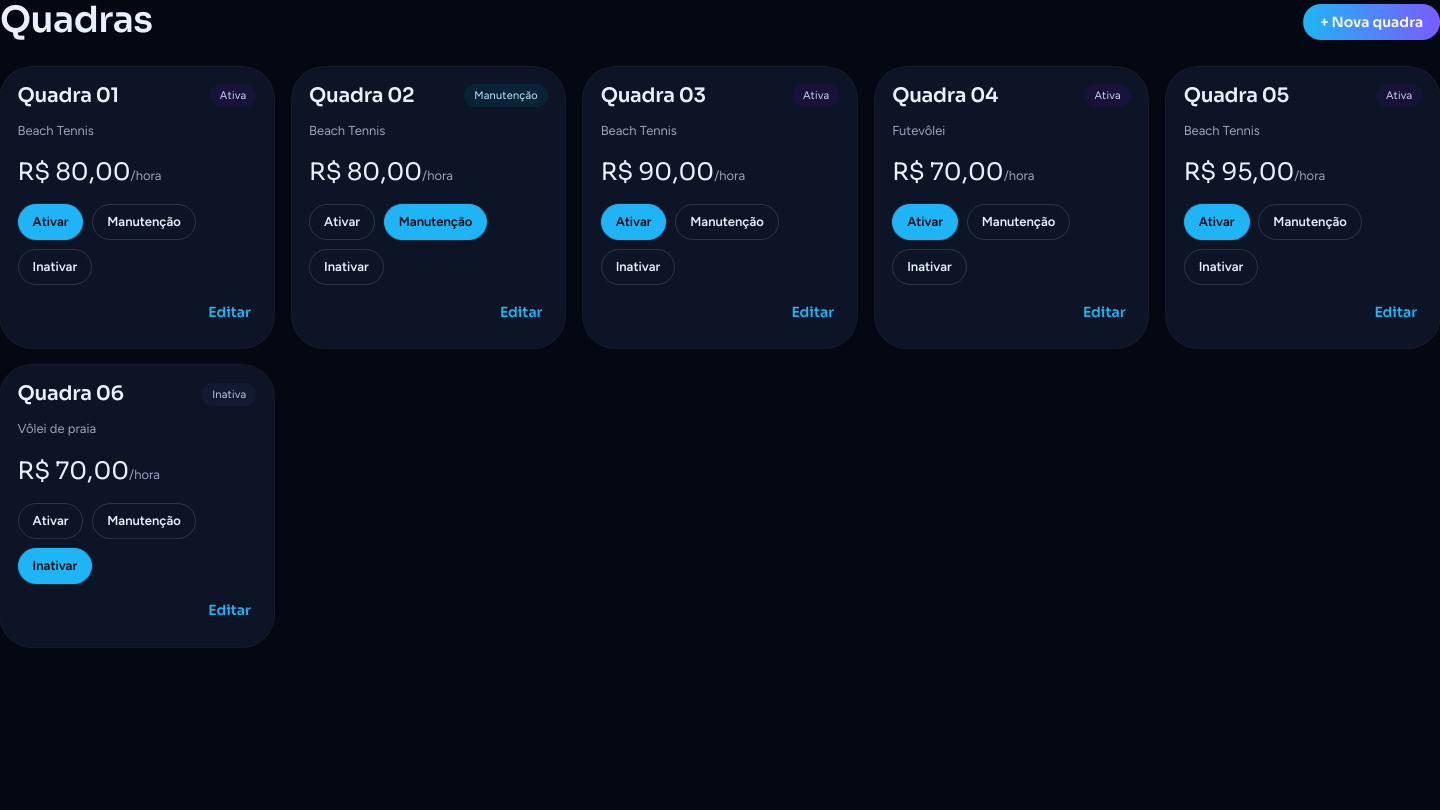
it: QuadrasPage › edita uma quadra e exibe erros da API sem fechar o formulário (RF06)
The width and height of the screenshot is (1440, 810).
Click the button with aria-label "Editar Quadra 01" at (230, 312), box [203, 294, 256, 330]
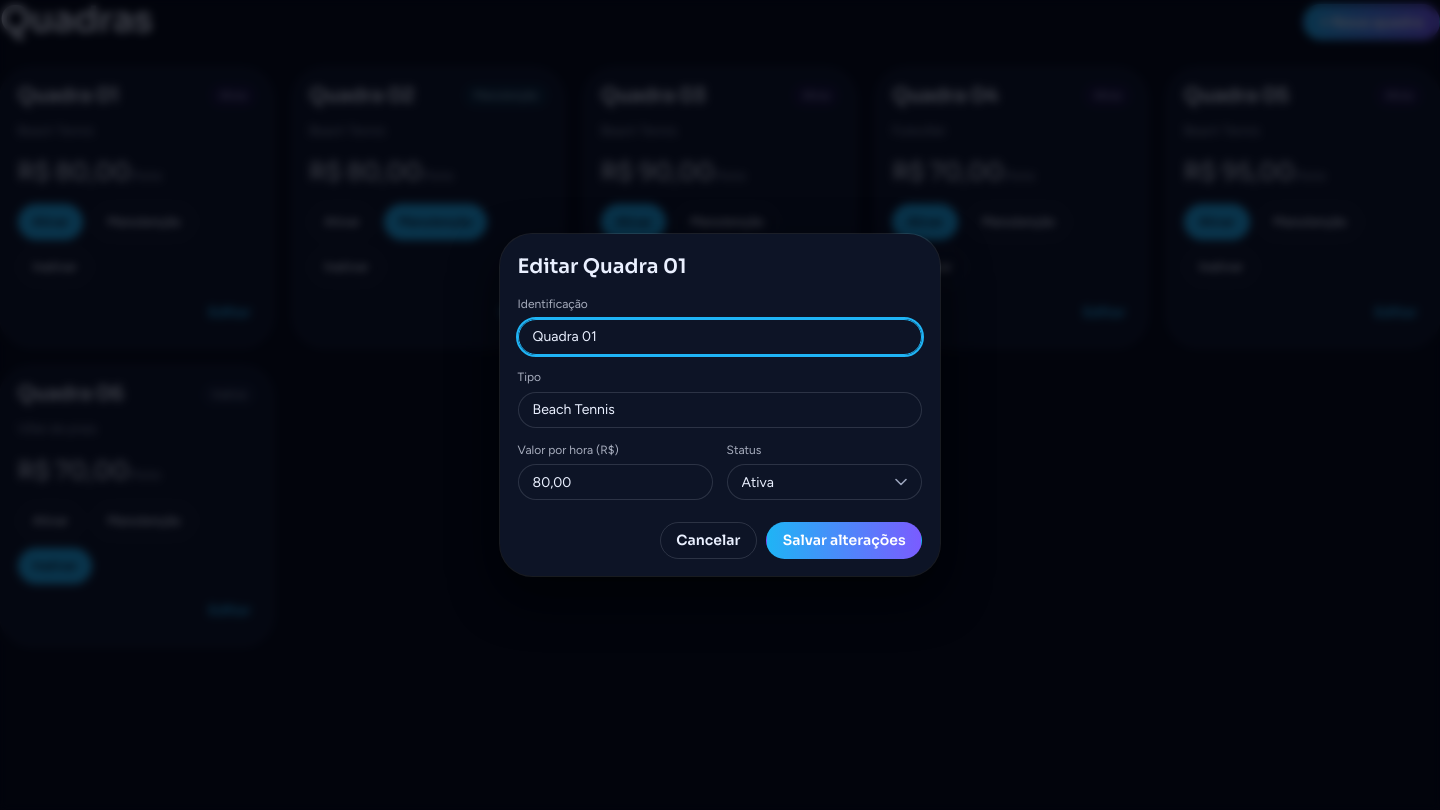
Result: the field labelled "Valor por hora (R$)" holds "80,00" at [518, 464, 713, 500]
Click the button "Salvar alterações" at (844, 541), box [766, 522, 922, 559]
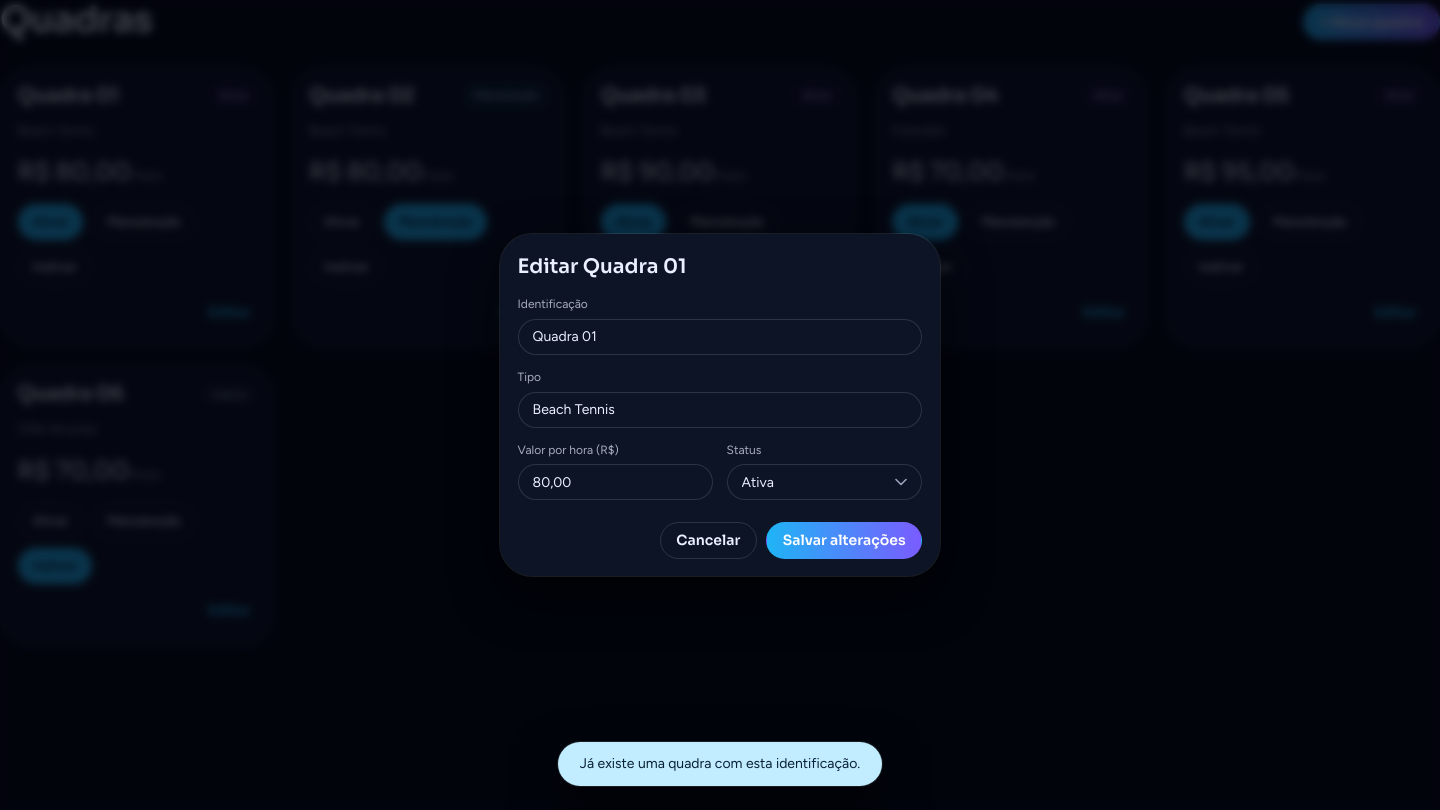
Result: the dialog "Editar Quadra 01" is shown at [500, 234, 940, 576]
Result: the text "Já existe uma quadra com esta identificação." is shown at [558, 742, 882, 786]
Clear the field labelled "Valor por hora (R$)" at (616, 482), box [518, 464, 713, 500]
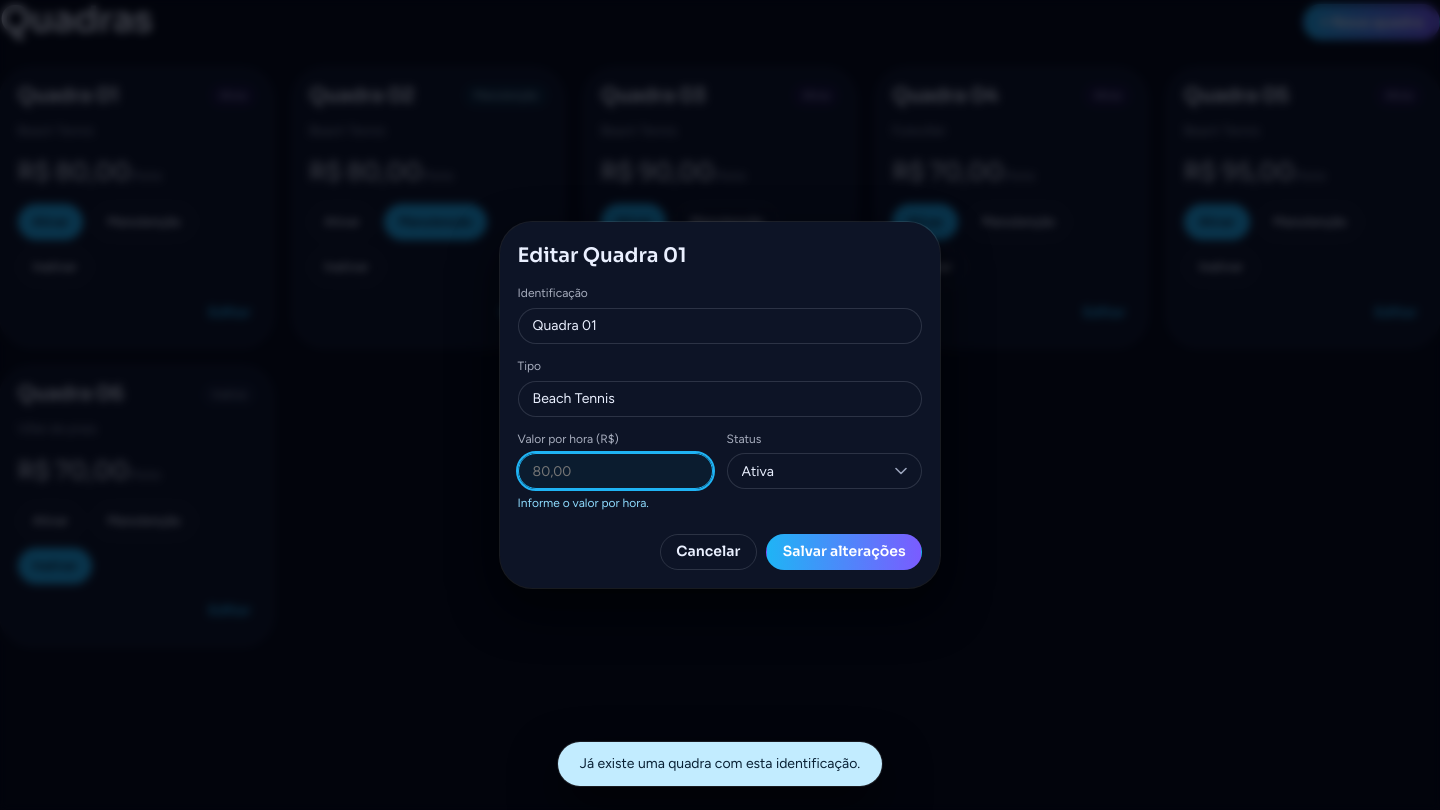
Type "85" into the field labelled "Valor por hora (R$)" at (616, 471), box [518, 453, 713, 489]
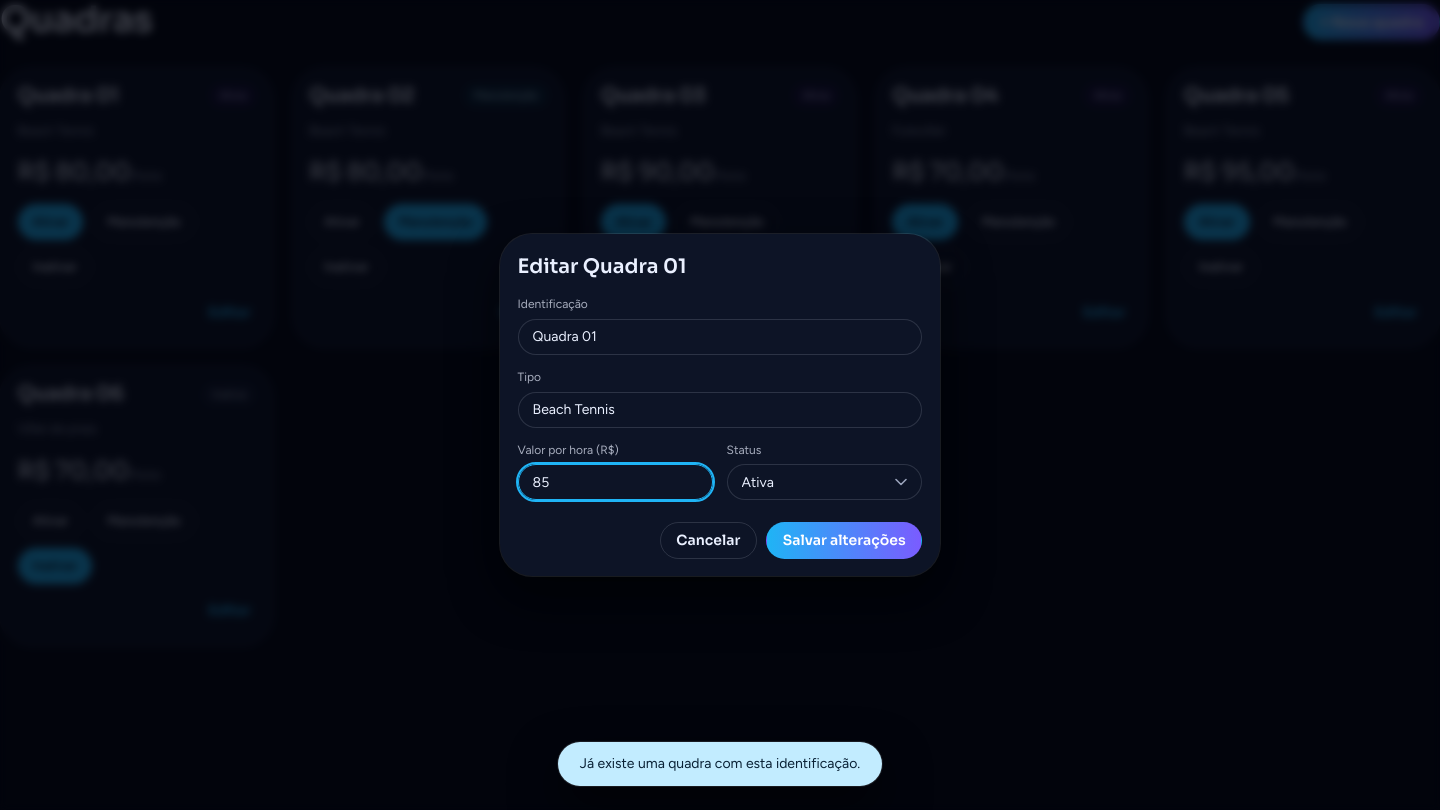
Click the button "Salvar alterações" at (844, 541), box [766, 522, 922, 559]
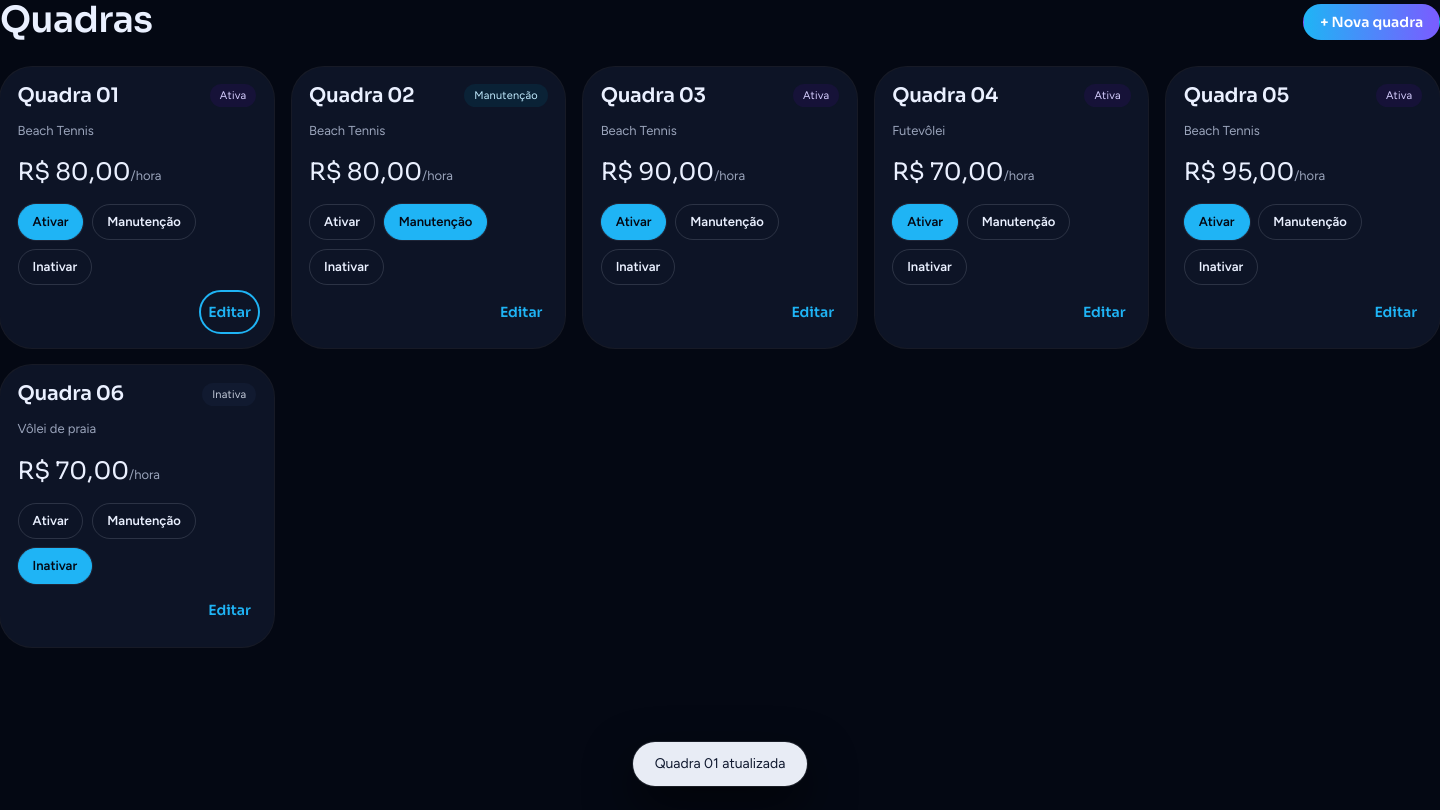
Result: the text "Quadra 01 atualizada" is shown at [633, 742, 807, 786]
